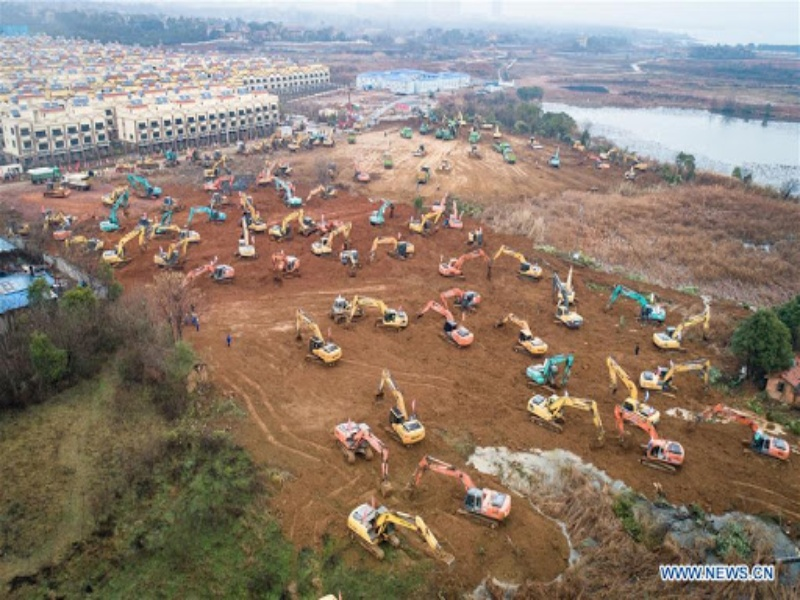excavator: (401, 455, 513, 529), (346, 501, 454, 564), (688, 407, 793, 468), (613, 407, 687, 476), (329, 417, 391, 493), (371, 370, 424, 449), (522, 393, 605, 441), (288, 308, 344, 370), (415, 301, 475, 351), (601, 285, 668, 329), (343, 291, 409, 334), (494, 312, 549, 358), (639, 363, 711, 398), (649, 316, 711, 355), (98, 226, 148, 271), (434, 246, 491, 283), (494, 243, 543, 284), (308, 220, 355, 258), (523, 354, 575, 388), (181, 263, 237, 290), (368, 235, 416, 266), (152, 236, 191, 273), (267, 207, 306, 244), (183, 202, 229, 232), (235, 217, 259, 264)
